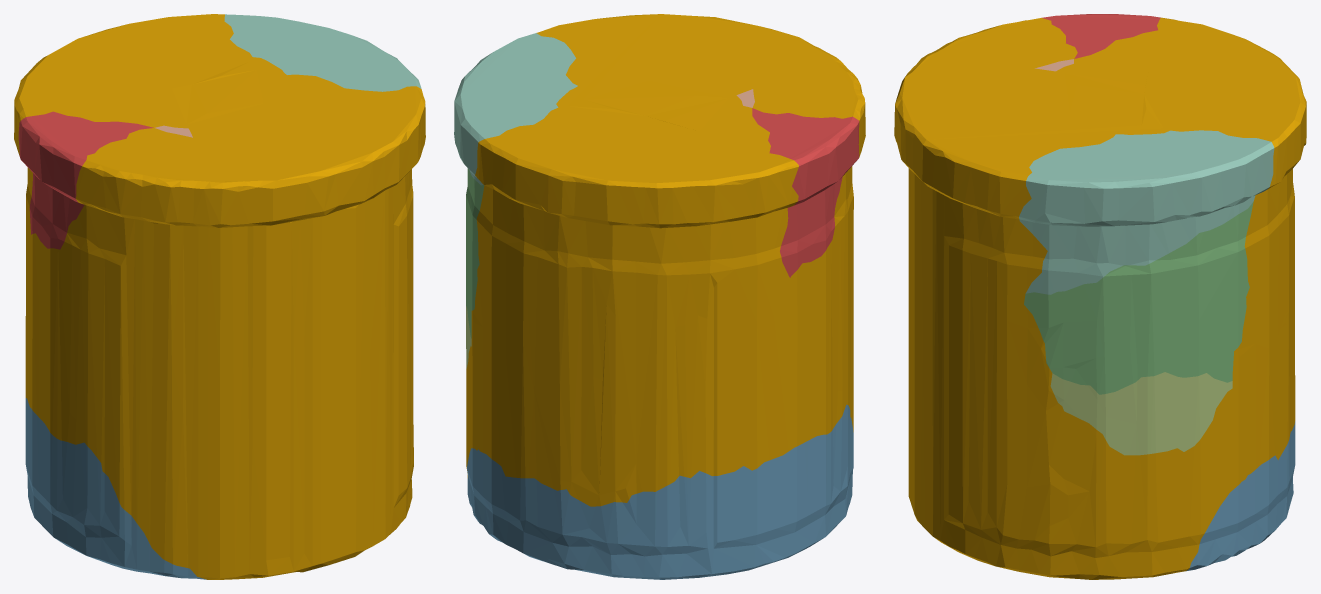
Rendered from fractured_42_8pcs.glb.
The picture shows the model from 3 angles, left to right: view 1: azimuth 30°, elevation 25°; view 2: azimuth 150°, elevation 25°; view 3: azimuth 270°, elevation 25°; orthographic projection.
Visible parts, largest first — view 1: piece_0.obj, piece_2.obj, piece_4.obj, piece_1.obj; view 2: piece_0.obj, piece_2.obj, piece_4.obj, piece_1.obj, piece_3.obj; view 3: piece_0.obj, piece_4.obj, piece_3.obj, piece_5.obj, piece_2.obj, piece_1.obj.
Boxes of the visible parts, bbox=[...] form: piece_0.obj: bbox=[14, 14, 425, 579]; piece_2.obj: bbox=[25, 398, 206, 579]; piece_4.obj: bbox=[224, 14, 421, 91]; piece_1.obj: bbox=[18, 111, 153, 249]; piece_0.obj: bbox=[466, 14, 865, 506]; piece_2.obj: bbox=[467, 404, 853, 579]; piece_4.obj: bbox=[454, 33, 577, 185]; piece_1.obj: bbox=[752, 108, 859, 277]; piece_3.obj: bbox=[466, 168, 484, 338]; piece_0.obj: bbox=[894, 17, 1306, 579]; piece_4.obj: bbox=[1019, 130, 1274, 294]; piece_3.obj: bbox=[1024, 202, 1253, 394]; piece_5.obj: bbox=[1050, 372, 1232, 455]; piece_2.obj: bbox=[1186, 421, 1295, 571]; piece_1.obj: bbox=[1042, 14, 1160, 58].
Size of the model in its own units: 0.9259 by 1 by 0.9247.
